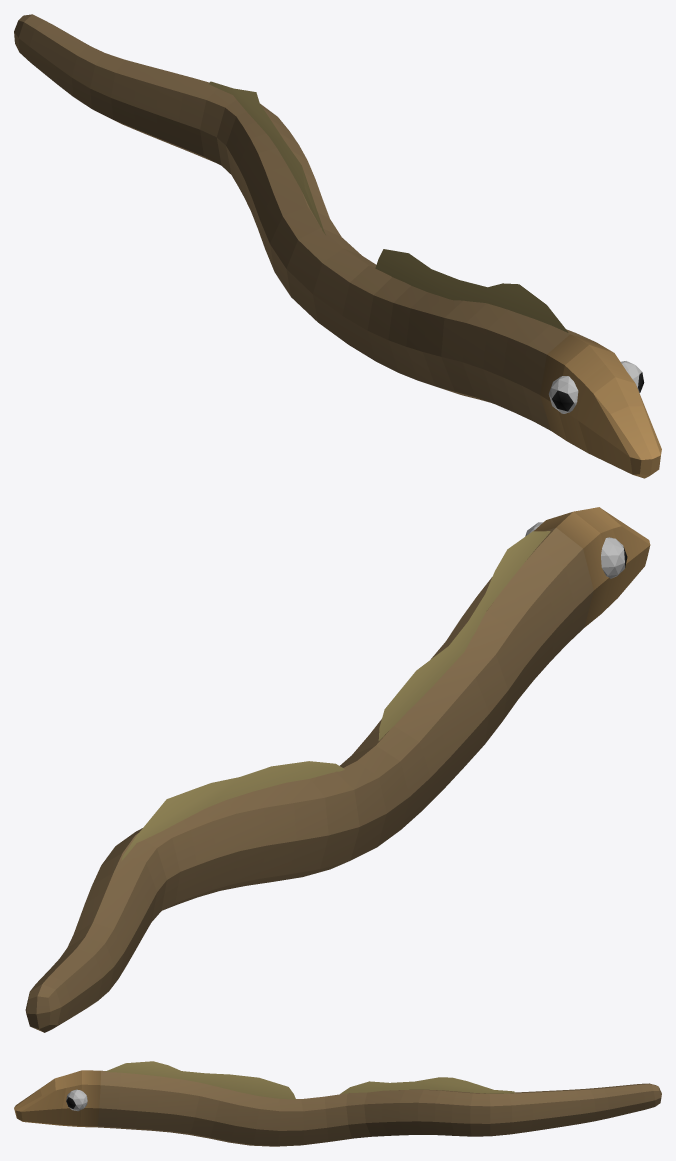
File: moray_eel.glb
The picture shows the model from 3 angles, top to bottom: view 1: azimuth 30°, elevation 25°; view 2: azimuth 150°, elevation 25°; view 3: azimuth 270°, elevation 25°; orthographic projection. The views are drawn at different scales.
Visible parts, largest first — view 1: moray_eel_merged; view 2: moray_eel_merged; view 3: moray_eel_merged.
Boxes of the visible parts, box(x1,y1,x2,y2) form: moray_eel_merged: box(14, 14, 661, 478); moray_eel_merged: box(25, 507, 650, 1032); moray_eel_merged: box(14, 1061, 661, 1146).
Size of the model in its own units: 0.953 by 1.42 by 9.41.
Materials: 4 (4 with a texture image).
